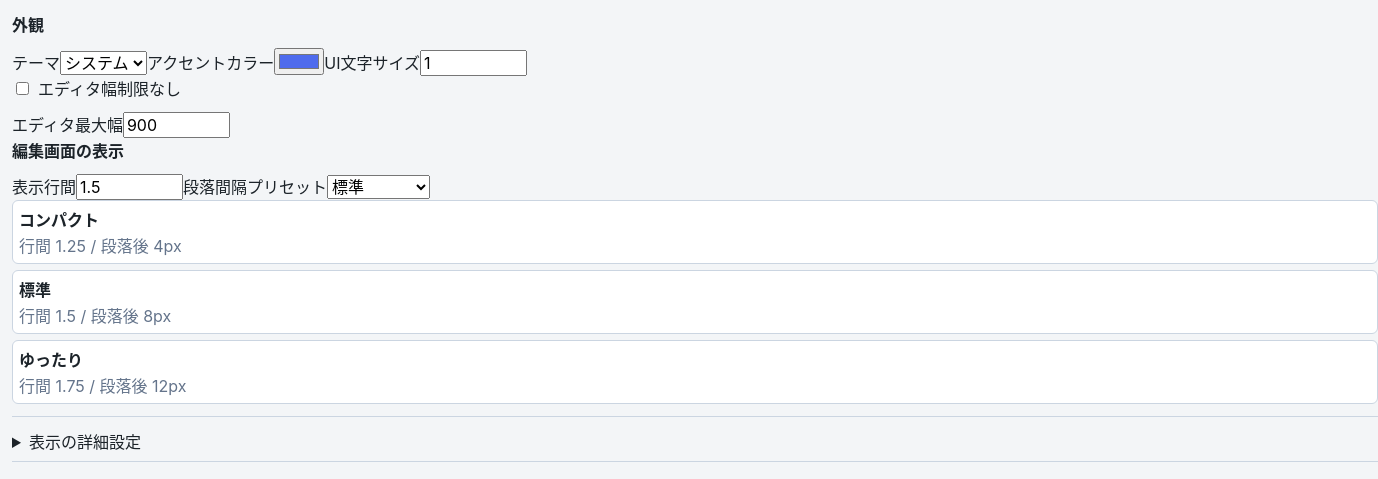
it: AppearancePreferencesPanel › edits appearance and display preferences without losing stored values
This screenshot has width=1378, height=479.
Select "ダーク" in the dropdown labelled "テーマ": (104, 63) [60, 51, 147, 75]
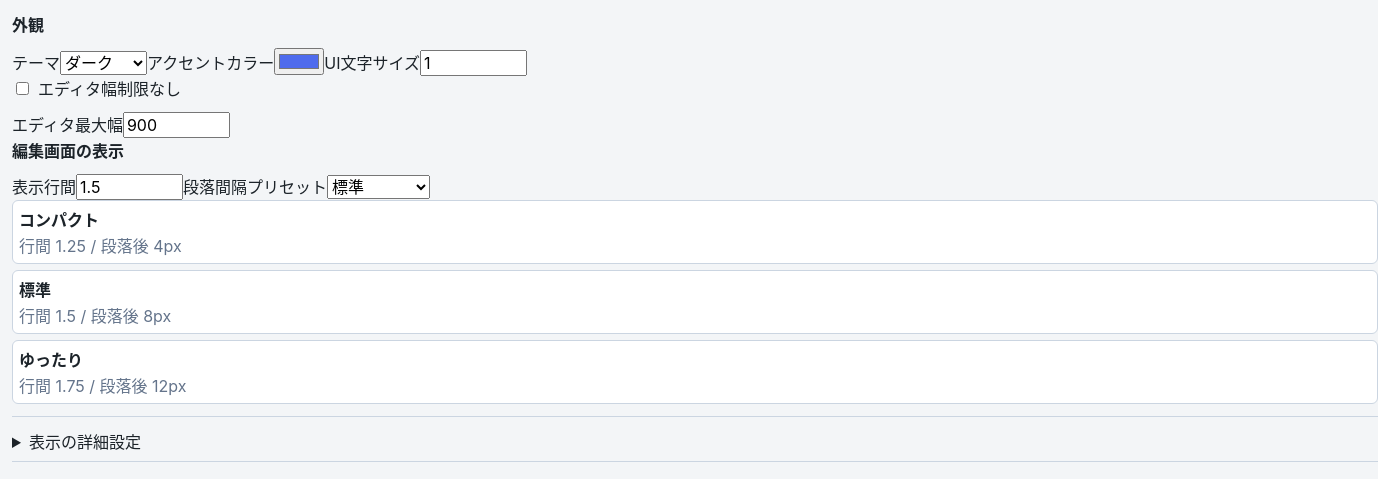
In the colour field labelled "アクセントカラー": (299, 62) [274, 48, 324, 75], type "#112233"
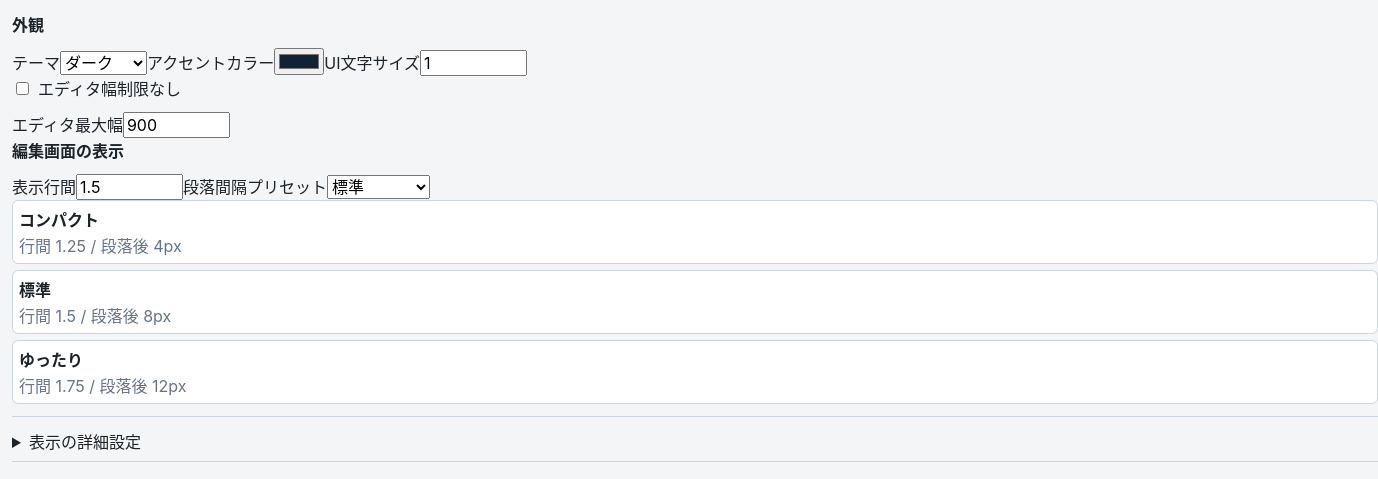
Replace the text in the number field labelled "UI文字サイズ" with "1.25": (474, 63) [420, 50, 527, 76]
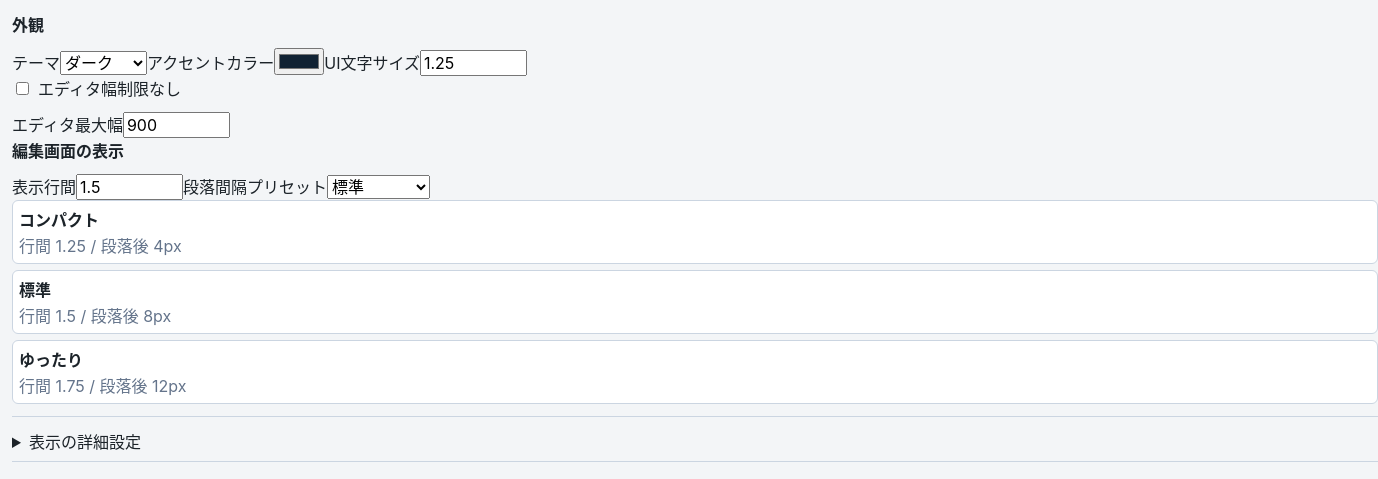
Replace the text in the number field labelled "エディタ最大幅" with "1100": (176, 125) [123, 112, 230, 138]
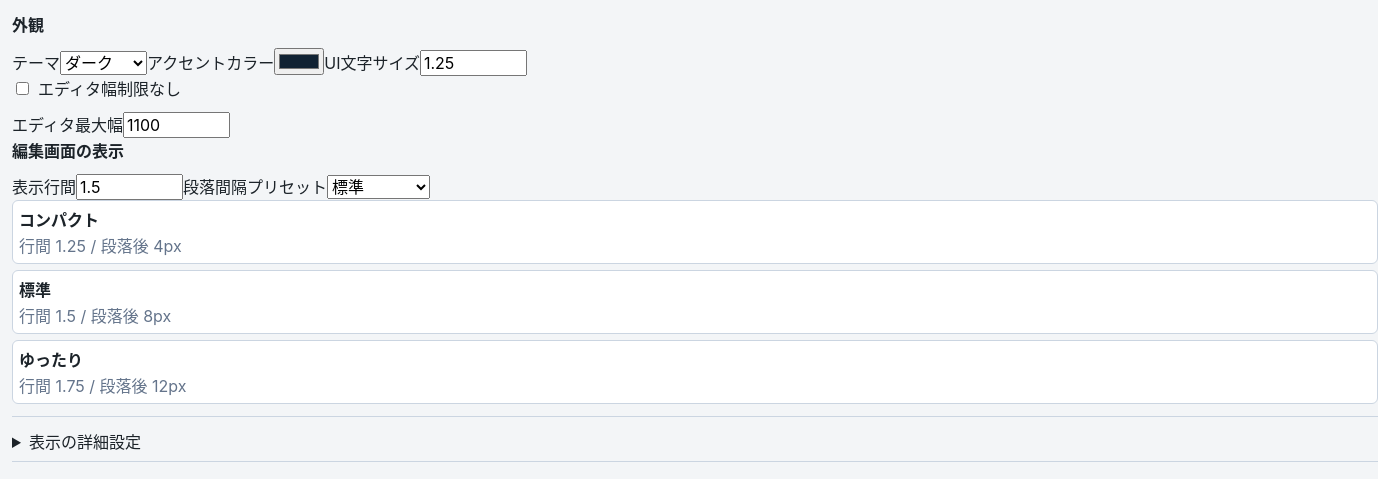
Select "ゆったり" in the dropdown labelled "段落間隔プリセット": (378, 187) [327, 175, 430, 199]
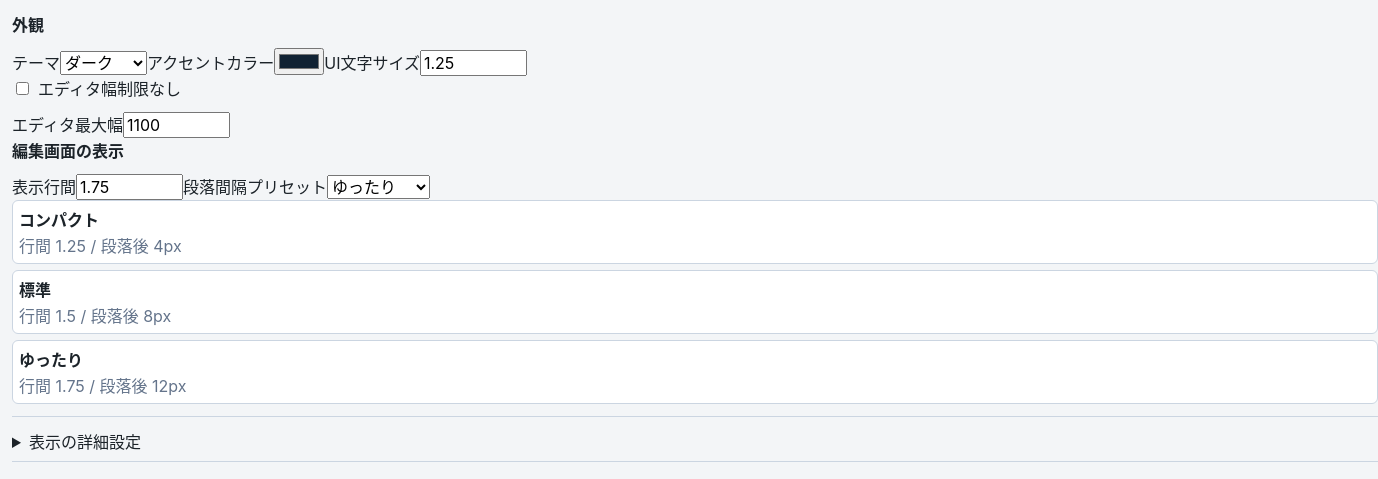
Now the number field labelled "表示行間" holds "1.75", box [76, 174, 183, 200]
